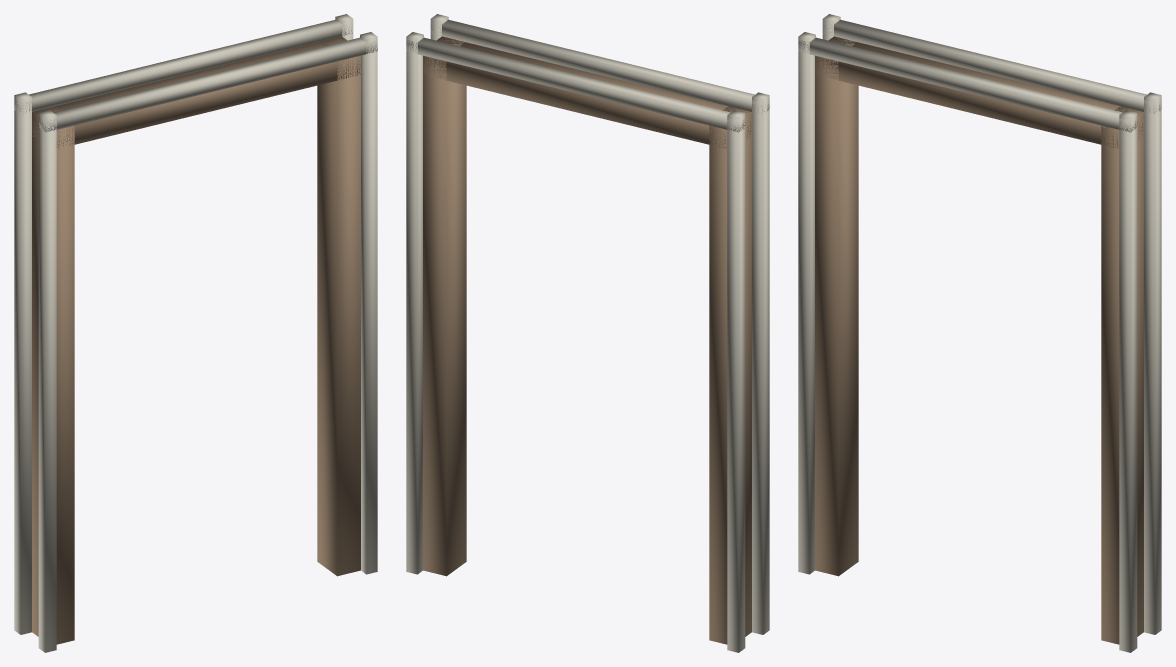
Rendered from doorway_painted_trim_w122_h220_d16.glb.
3 views of the same model, side by side, from view 1: azimuth 30°, elevation 25°; view 2: azimuth 150°, elevation 25°; view 3: azimuth 330°, elevation 25° (orthographic).
Visible parts, largest first — view 1: world; view 2: world; view 3: world.
Boxes of the visible parts, box(x1,y1,x2,y2) form: world: box(14, 14, 377, 652); world: box(406, 14, 769, 652); world: box(798, 14, 1161, 652).
Bounding box in the file's own units: 1.55 × 2.38 × 0.2496.
